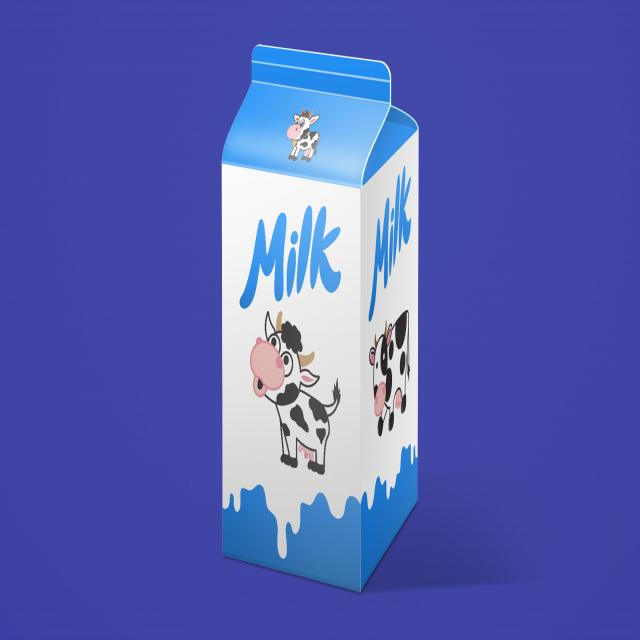non_white_jug: (211, 36, 433, 602)
